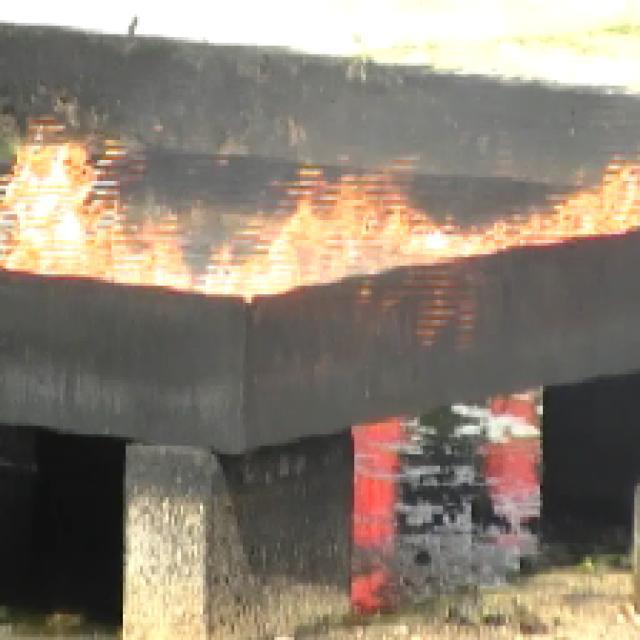Fire: (1, 151, 635, 267)
